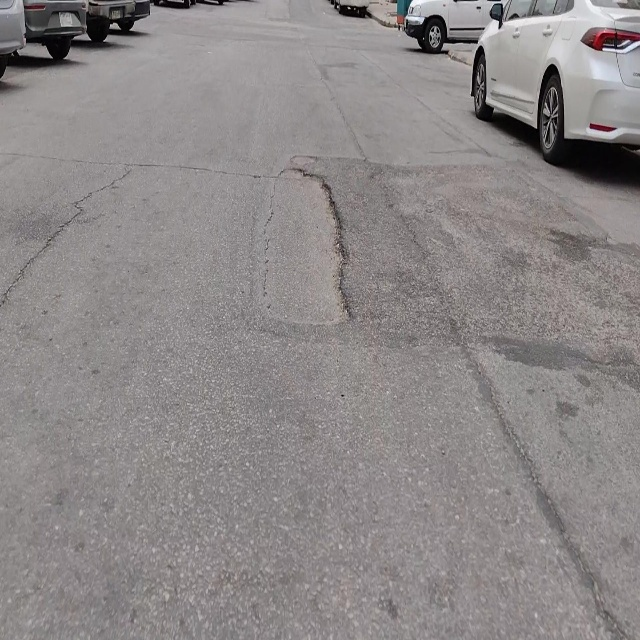pothole: (262, 163, 352, 329)
